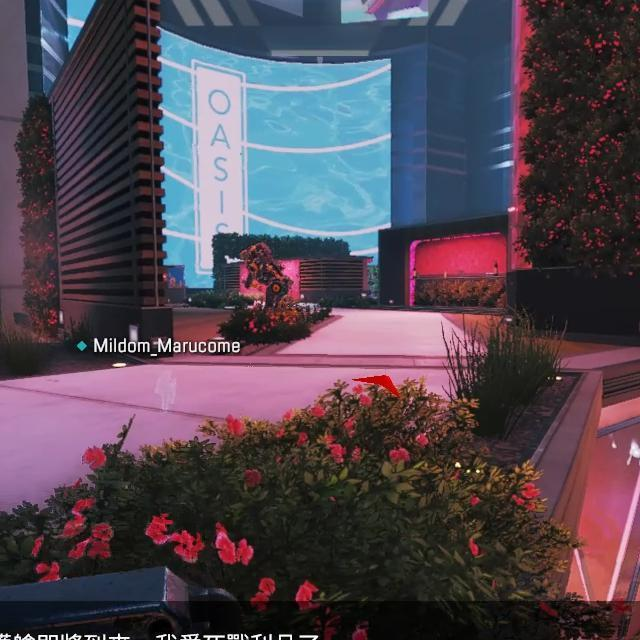avatar: (241, 242, 292, 312)
